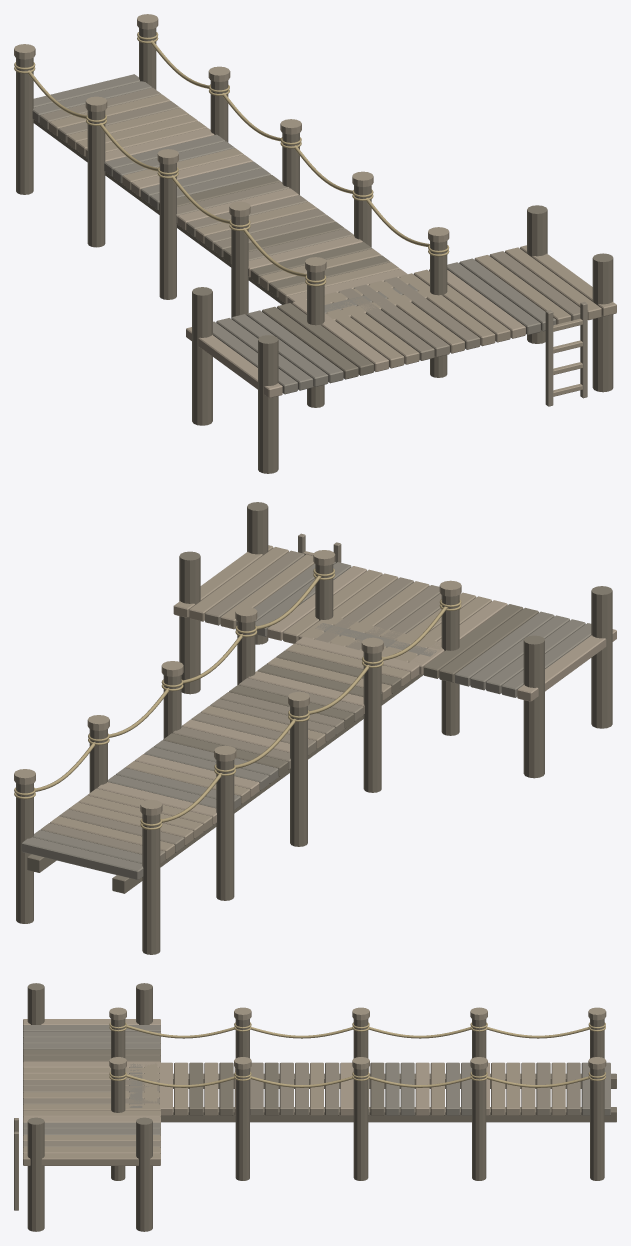
Rendered from Dock.fbx.
3 views of the same model, one above another, from view 1: azimuth 30°, elevation 25°; view 2: azimuth 150°, elevation 25°; view 3: azimuth 270°, elevation 25° (orthographic). The views are drawn at different scales.
Visible parts, largest first — view 1: SM_Dock; view 2: SM_Dock; view 3: SM_Dock.
Part boxes in pixels (left/top/right/bottom): SM_Dock: left=14, top=14, right=616, bottom=473; SM_Dock: left=14, top=502, right=616, bottom=954; SM_Dock: left=14, top=983, right=616, bottom=1231.
Size of the model in its own units: 5.11 by 2.05 by 9.19.
